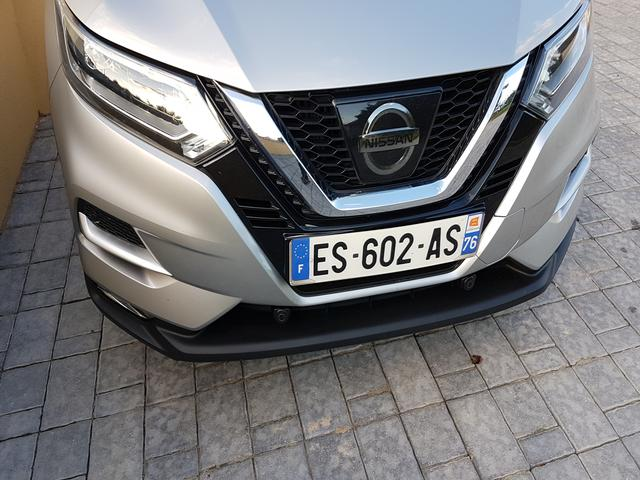Quashquai: (275, 207, 503, 307)
